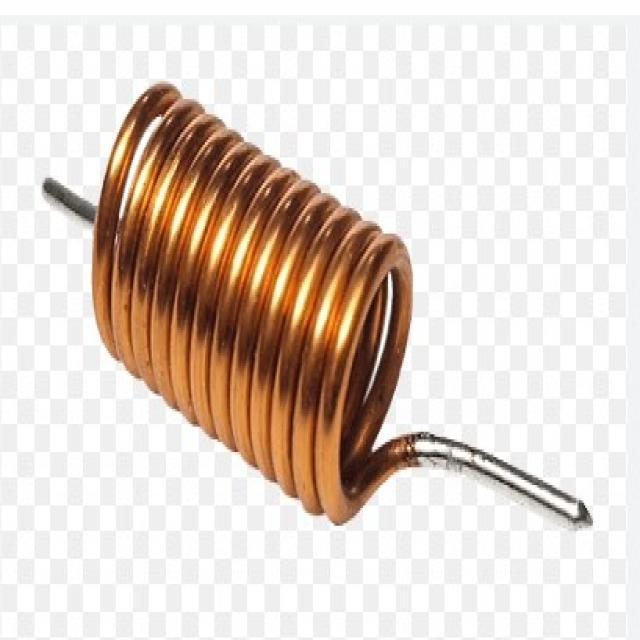Inductor: (94, 84, 591, 525)
